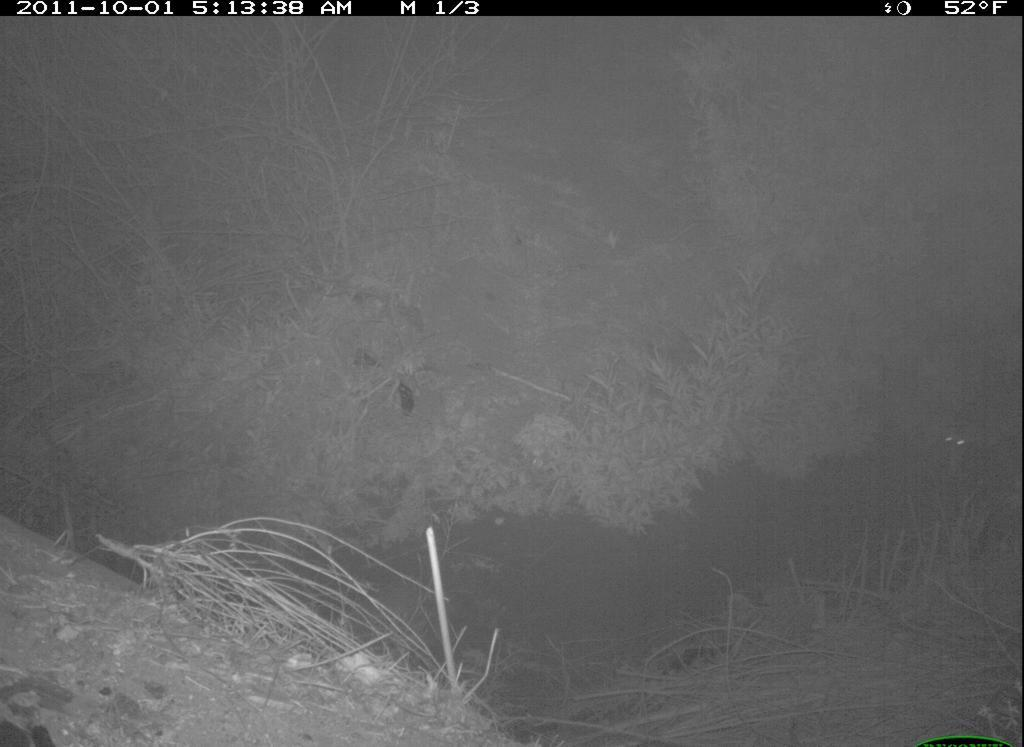raccoon: (926, 401, 1023, 528)
